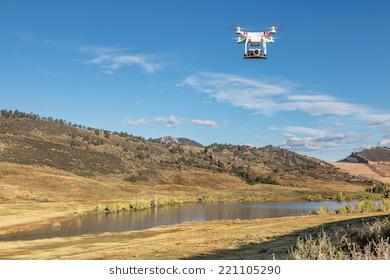drone: (226, 21, 289, 62)
